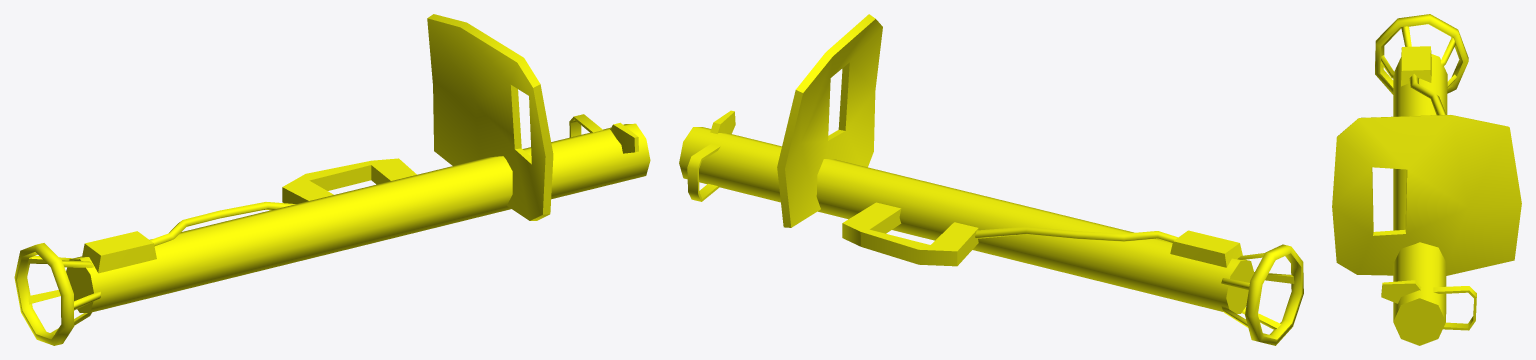
The model's file is weapon_panzerschreck.glb.
The picture shows the model from 3 angles, left to right: view 1: azimuth 30°, elevation 25°; view 2: azimuth 150°, elevation 25°; view 3: azimuth 270°, elevation 25°; orthographic projection. The views are drawn at different scales.
Visible parts, largest first — view 1: weapon_panzerschreck; view 2: weapon_panzerschreck; view 3: weapon_panzerschreck.
Part boxes in pixels (bbox=[...]): weapon_panzerschreck: bbox=[14, 14, 650, 345]; weapon_panzerschreck: bbox=[679, 14, 1303, 345]; weapon_panzerschreck: bbox=[1332, 14, 1521, 345].
Bounding box in the file's own units: 2.54 × 0.8118 × 0.764.
1 material, 1 textured.
